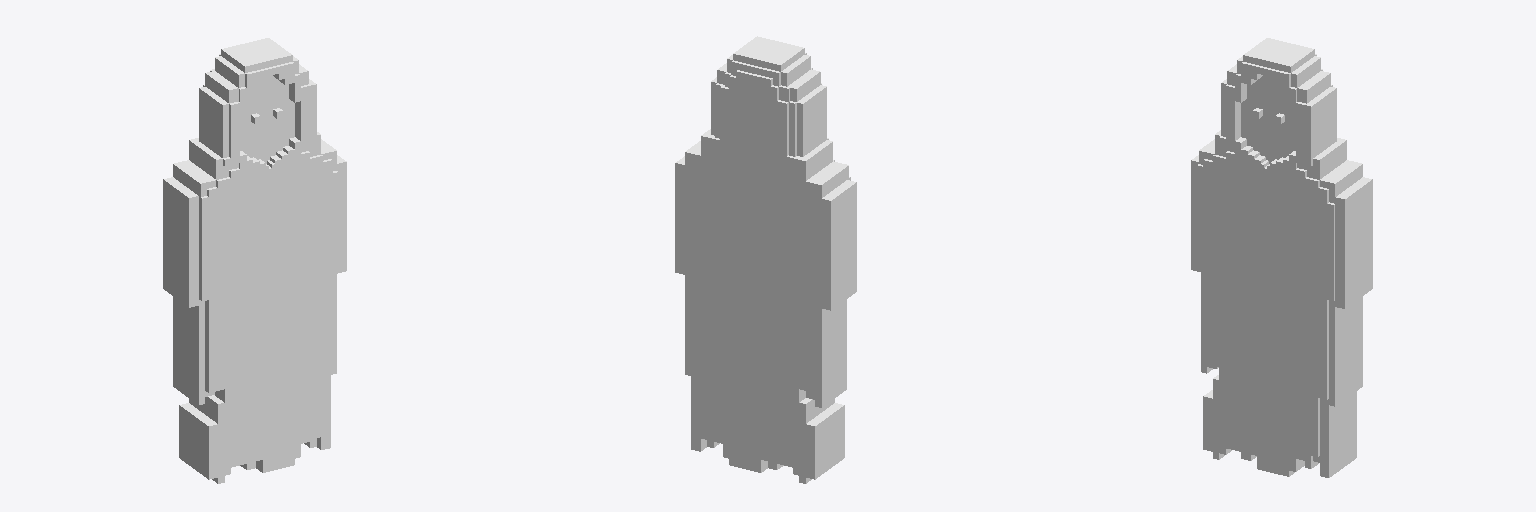
The model's file is deadmage.obj.
3 views of the same model, side by side, from view 1: azimuth 30°, elevation 25°; view 2: azimuth 150°, elevation 25°; view 3: azimuth 330°, elevation 25° (orthographic).
Visible parts, largest first — view 1: dead-mage; view 2: dead-mage; view 3: dead-mage.
Boxes of the visible parts, box(x1,y1,x2,y2) form: dead-mage: box(163, 38, 346, 483); dead-mage: box(675, 36, 856, 483); dead-mage: box(1191, 38, 1372, 477).
Size of the model in its own units: 4.9 by 12.3 by 1.6.